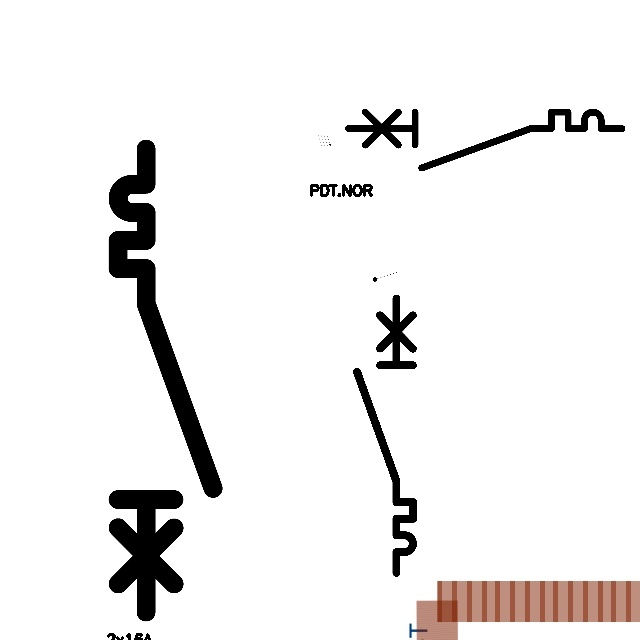interruptor_termomagnetico: (106, 137, 225, 624), (341, 105, 629, 175), (350, 291, 420, 579)
